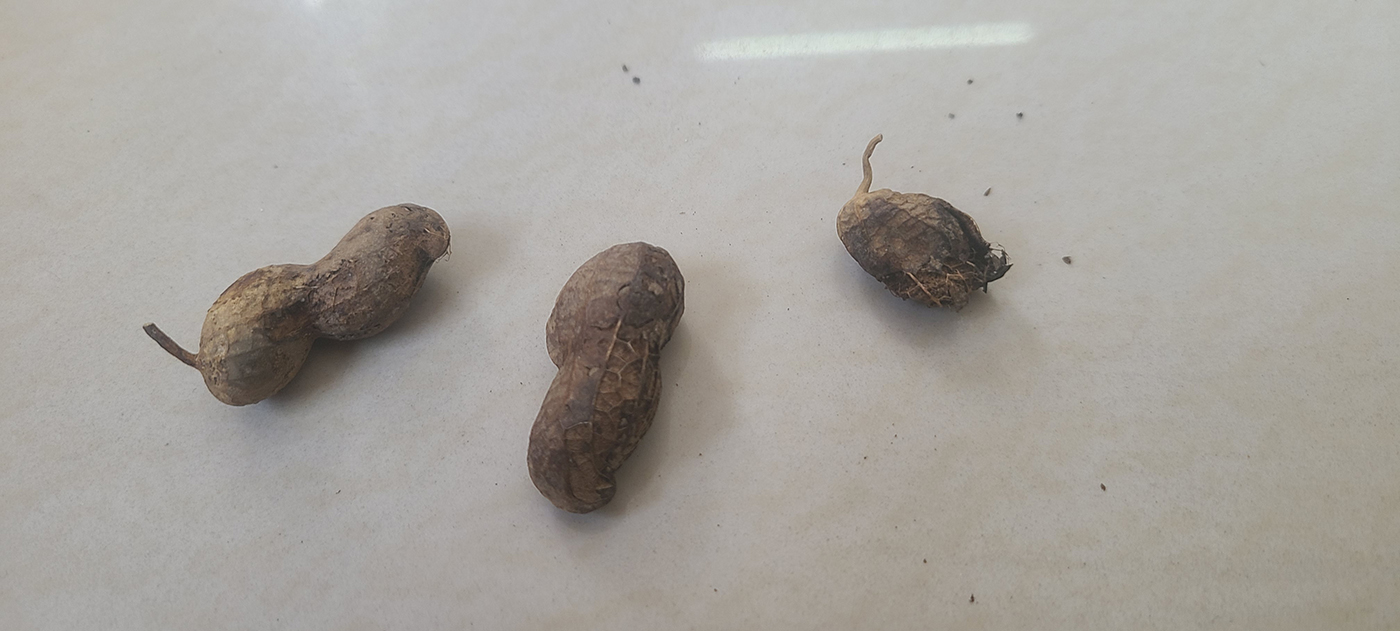l: (146, 206, 453, 402), (524, 244, 685, 514), (834, 187, 1011, 316)
